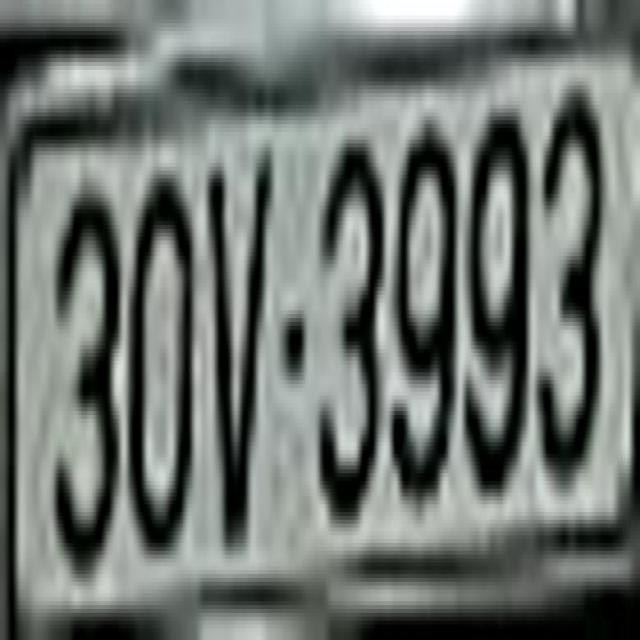0: (129, 178, 193, 547)
3: (318, 143, 387, 520), (56, 190, 116, 562), (539, 112, 601, 462)
9: (396, 124, 458, 512), (466, 136, 524, 488)
V: (208, 144, 272, 532)
